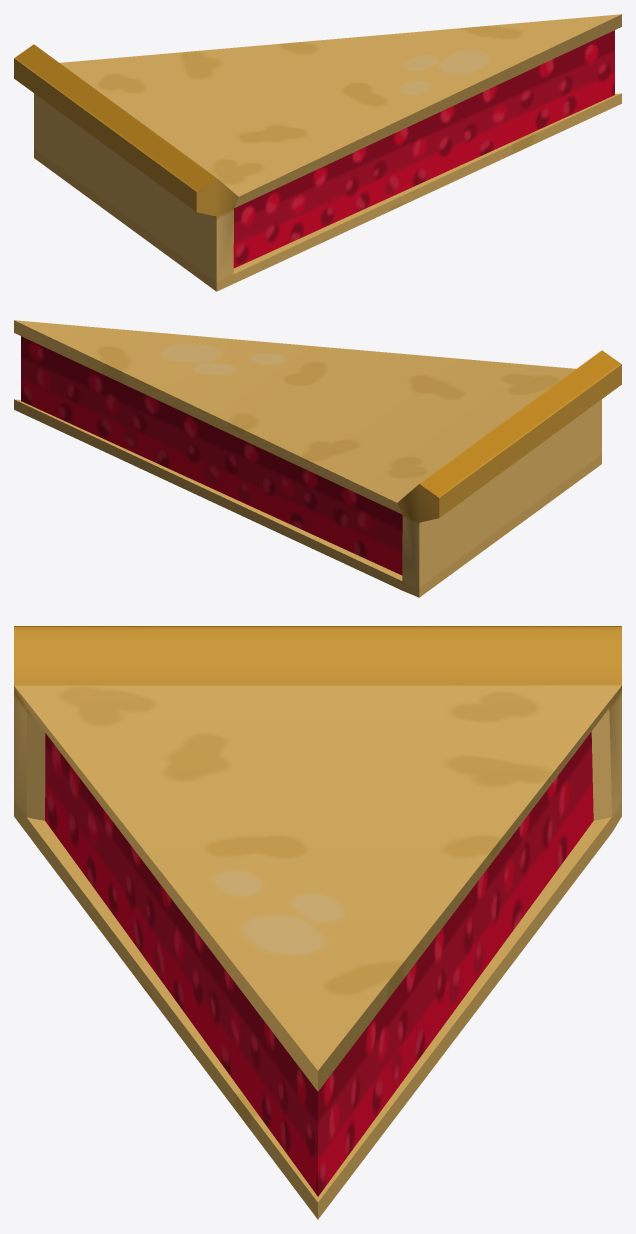
The model's file is Pie.fbx.
3 views of the same model, one above another, from view 1: azimuth 30°, elevation 25°; view 2: azimuth 150°, elevation 25°; view 3: azimuth 270°, elevation 25° (orthographic). The views are drawn at different scales.
Visible parts, largest first — view 1: Pie; view 2: Pie; view 3: Pie.
Boxes of the visible parts, x1,y1,x2,y2 form: Pie: [14, 14, 621, 291]; Pie: [14, 320, 621, 597]; Pie: [14, 626, 621, 1219].
Size of the model in its own units: 6.53 by 1.38 by 4.
